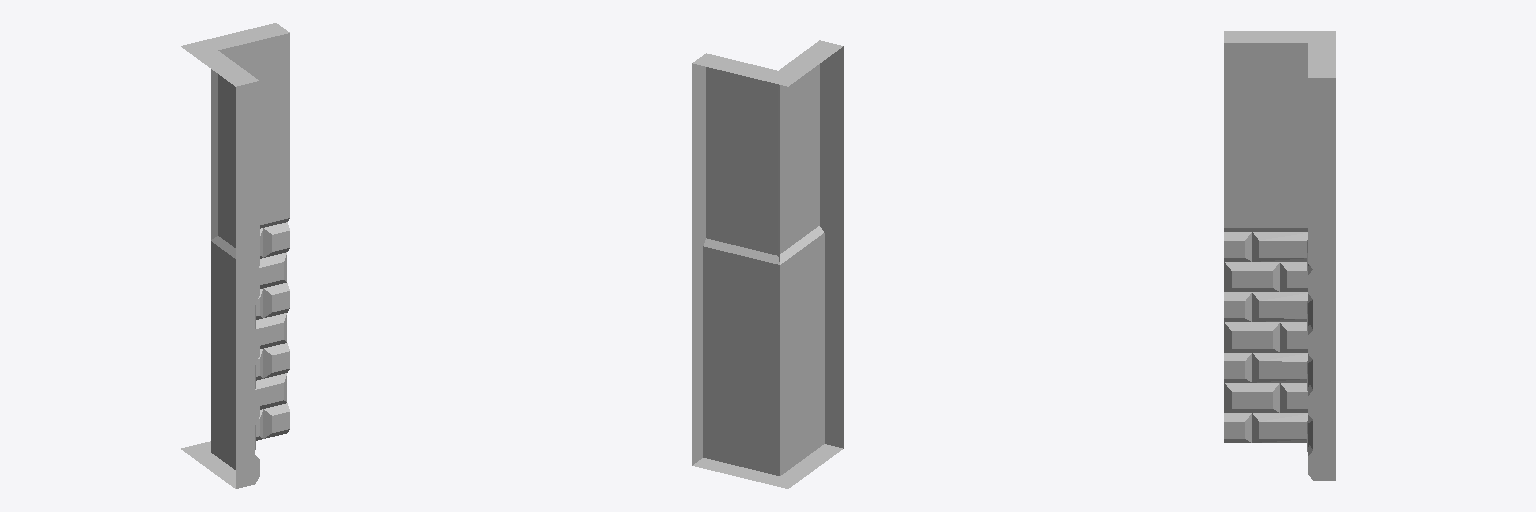
File: wall_modular_tiles_kitchen_half_corner_inner_B.obj
The picture shows the model from 3 angles: view 1: azimuth 30°, elevation 25°; view 2: azimuth 150°, elevation 25°; view 3: azimuth 270°, elevation 25°; orthographic projection.
Visible parts, largest first — view 1: wall_modular_tiles_kitchen_half_corner_inner_B; view 2: wall_modular_tiles_kitchen_half_corner_inner_B; view 3: wall_modular_tiles_kitchen_half_corner_inner_B.
Part boxes in pixels (bbox=[...]): wall_modular_tiles_kitchen_half_corner_inner_B: bbox=[181, 23, 289, 488]; wall_modular_tiles_kitchen_half_corner_inner_B: bbox=[692, 40, 843, 488]; wall_modular_tiles_kitchen_half_corner_inner_B: bbox=[1224, 31, 1335, 480].
Bounding box in the file's own units: 1 × 4 × 1.